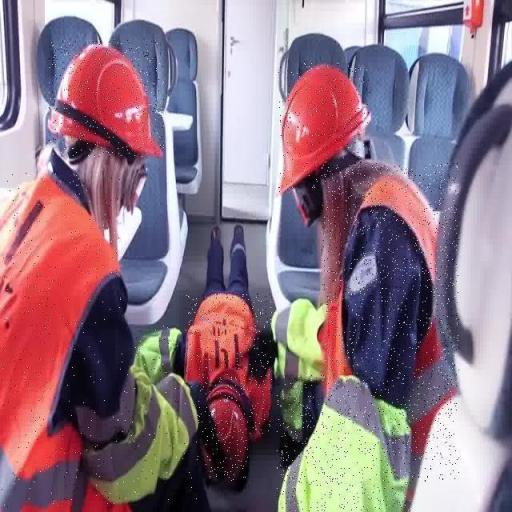Helmet: (49, 40, 164, 158), (279, 60, 370, 194), (205, 380, 248, 482)
